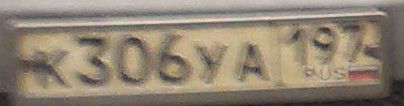character: (151, 29, 192, 87), (111, 34, 151, 89), (75, 32, 113, 88), (234, 42, 272, 87), (35, 46, 73, 90), (194, 41, 229, 85), (313, 22, 341, 69), (285, 25, 312, 69), (343, 23, 369, 68)
